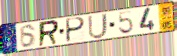4: (139, 6, 159, 33)
5: (118, 10, 135, 35)
6: (19, 24, 37, 49)
P: (65, 16, 87, 44)
R: (37, 19, 60, 49)
U: (87, 12, 109, 40)
